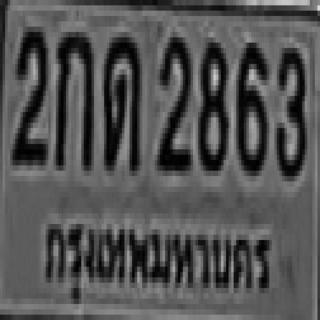A01: (54, 27, 92, 165)
A20: (102, 32, 137, 165)
N02: (10, 21, 46, 160), (156, 32, 189, 165)
N03: (274, 43, 305, 176)
N06: (235, 37, 266, 171)
N08: (196, 37, 226, 165)
P04: (37, 202, 273, 314)
